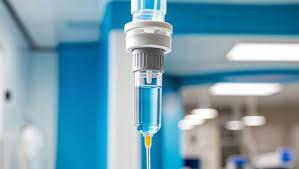Iv_Bottle: (133, 48, 163, 134), (131, 0, 166, 20)
Syringe: (144, 135, 151, 168)
